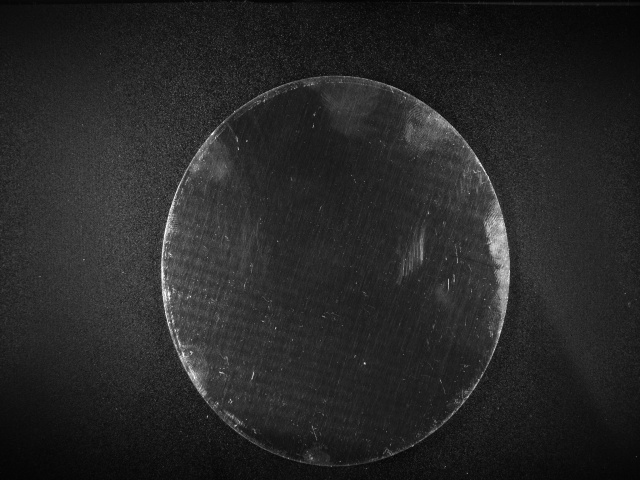zheng_chang: (212, 129, 458, 411)
